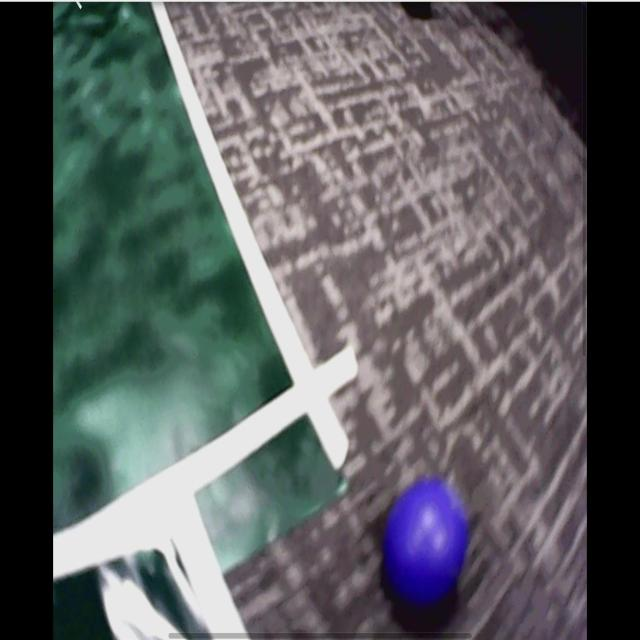ball: (387, 479, 467, 603)
